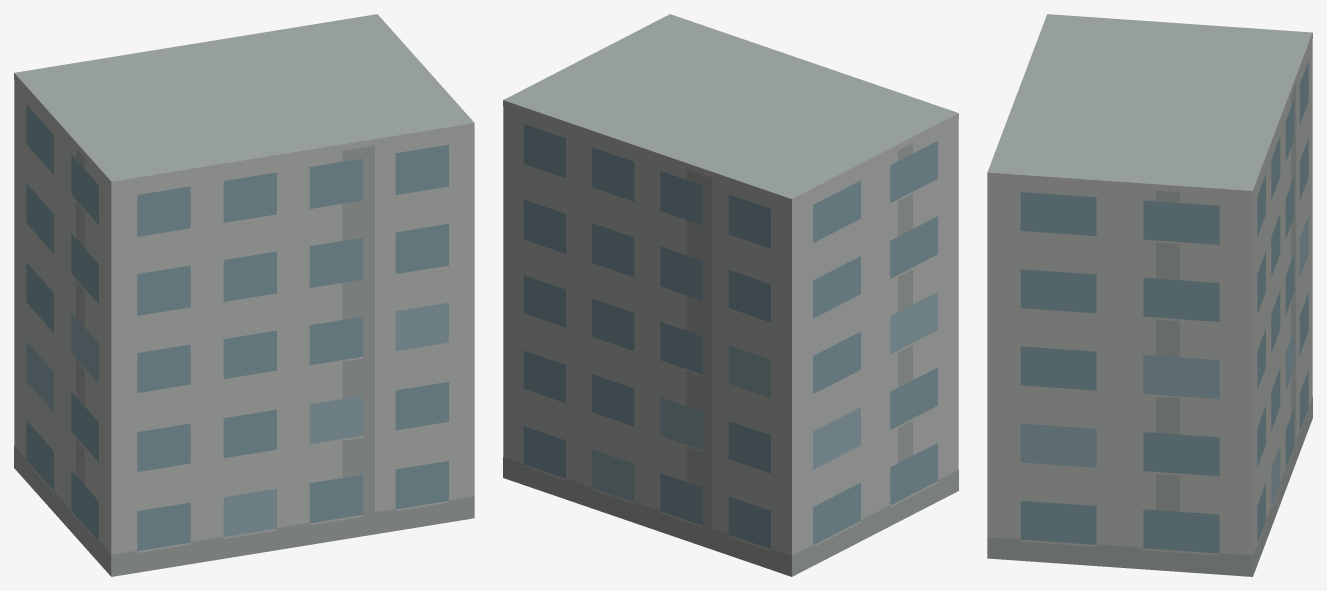
File: survey-upis-33045580.glb
The picture shows the model from 3 angles, left to right: view 1: azimuth 30°, elevation 25°; view 2: azimuth 150°, elevation 25°; view 3: azimuth 270°, elevation 25°; orthographic projection. The views are drawn at different scales.
Visible parts, largest first — view 1: survey-upis-33045580.tmp; view 2: survey-upis-33045580.tmp; view 3: survey-upis-33045580.tmp.
Boxes of the visible parts, x1,y1,x2,y2 form: survey-upis-33045580.tmp: (14, 14, 474, 576); survey-upis-33045580.tmp: (503, 14, 958, 576); survey-upis-33045580.tmp: (987, 14, 1312, 576).
Bounding box in the file's own units: 14.62 × 14.85 × 11.36.
